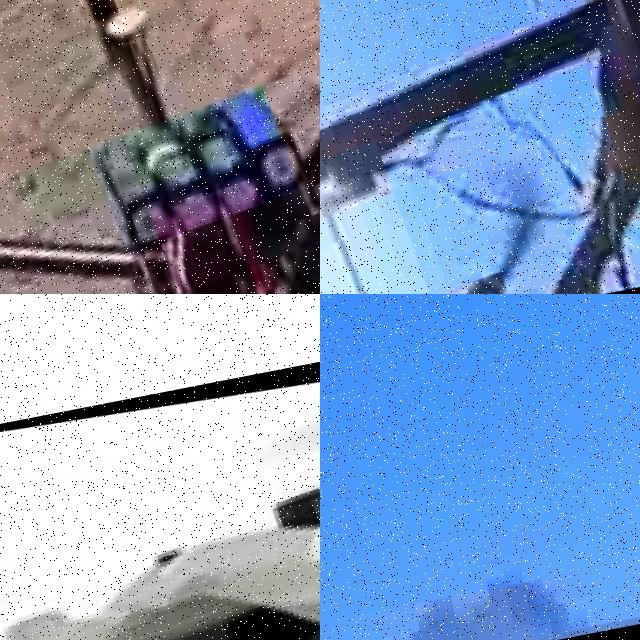0: (0, 0, 320, 294), (320, 0, 640, 294)
drone: (0, 342, 320, 640)
